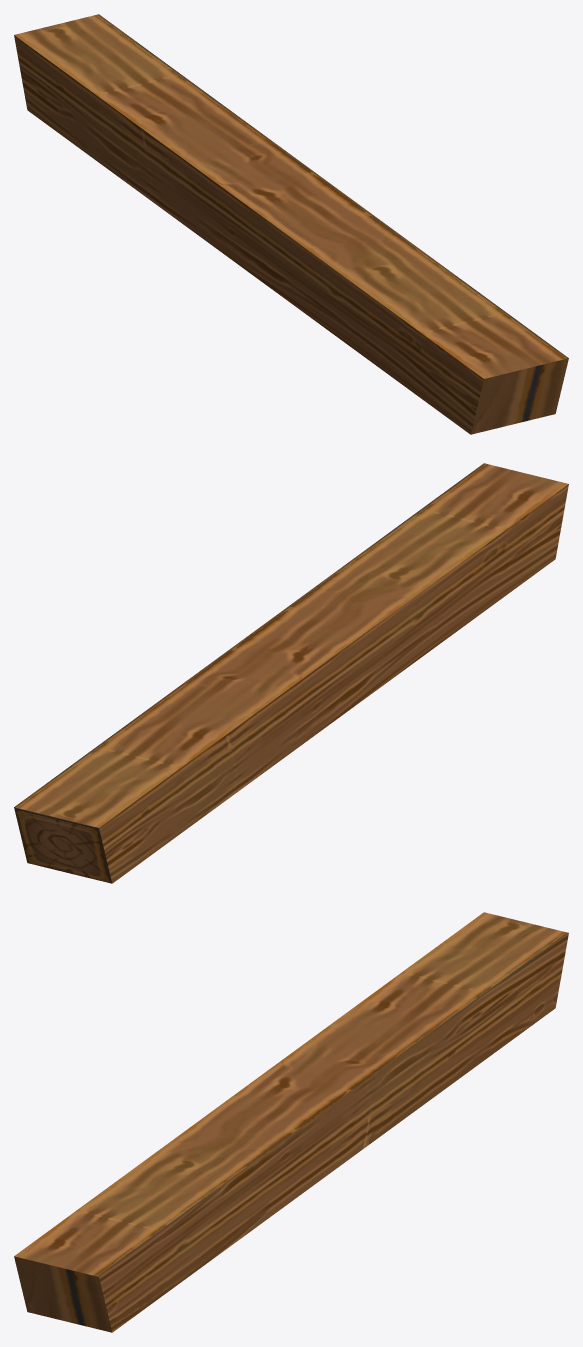
3 views of the same model, one above another, from view 1: azimuth 30°, elevation 25°; view 2: azimuth 150°, elevation 25°; view 3: azimuth 330°, elevation 25° (orthographic).
Parts seen in each view (by area): view 1: Cube.1177; view 2: Cube.1177; view 3: Cube.1177.
Part boxes in pixels (x1,y1,x2,y2): Cube.1177: (14,14,568,434); Cube.1177: (14,463,568,883); Cube.1177: (14,912,568,1332).
Size of the model in its own units: 59.32 by 43.75 by 568.
Materials: 1 (1 with a texture image).
